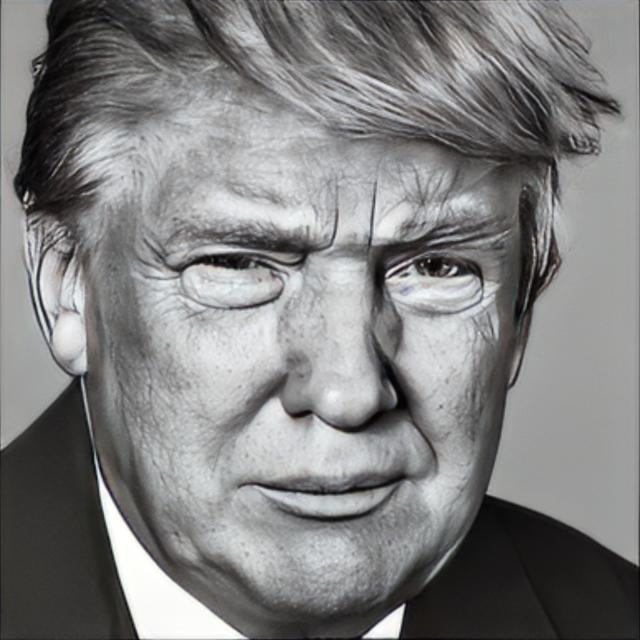anger: (99, 76, 521, 620)
